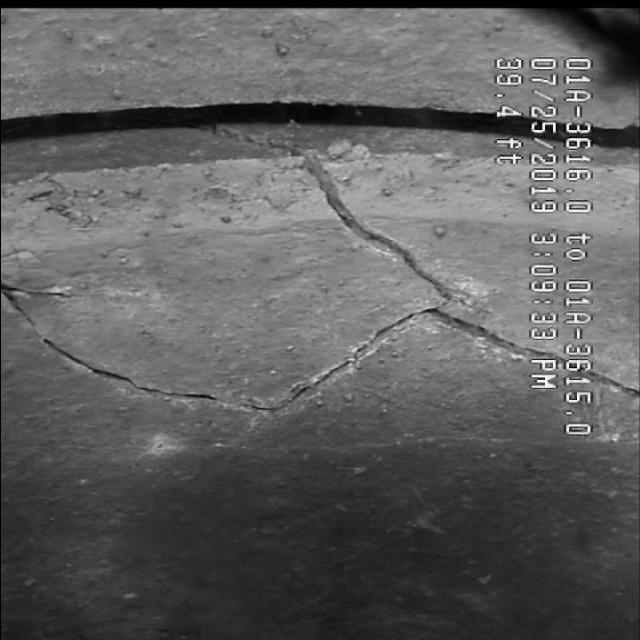Crack: (100, 182, 498, 442)
